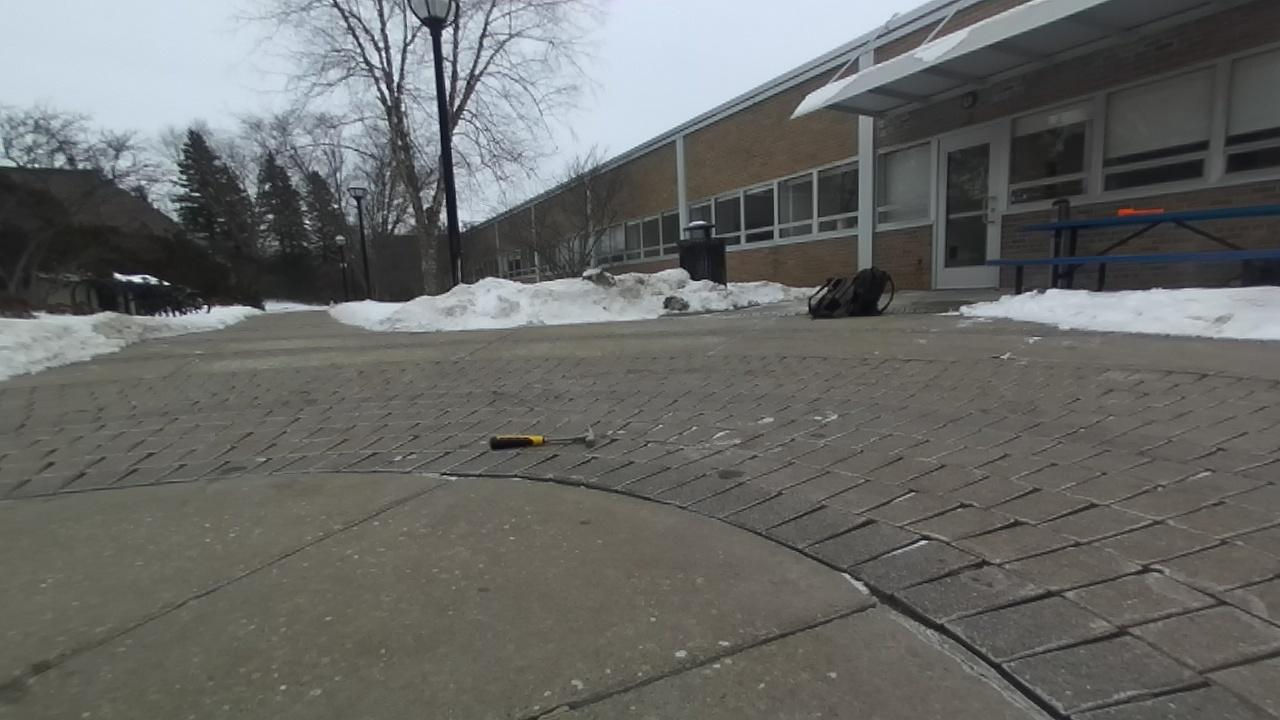mallet: (1117, 208, 1164, 216)
pick: (489, 428, 595, 450)
